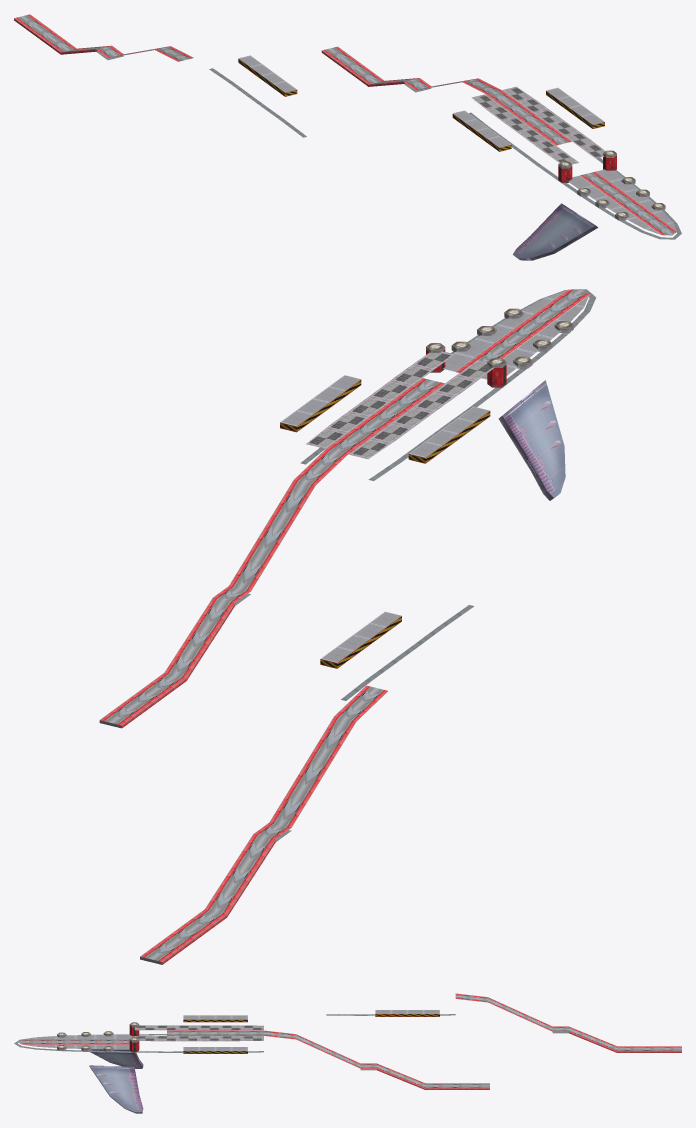
The model's file is S13_ONS_16.OBJ.
The picture shows the model from 3 angles, top to bottom: view 1: azimuth 30°, elevation 25°; view 2: azimuth 150°, elevation 25°; view 3: azimuth 270°, elevation 25°; orthographic projection. The views are drawn at different scales.
Visible parts, largest first — view 1: s13_ons_16_1, s13_ons_16_5, s13_ons_16_6, s13_ons_16_4, s13_ons_16_11, s13_ons_16_2, s13_ons_16_10, s13_ons_16_3, s13_ons_16_8, s13_ons_16_9, s13_ons_16_7; view 2: s13_ons_16_1, s13_ons_16_5, s13_ons_16_6, s13_ons_16_4, s13_ons_16_11, s13_ons_16_2, s13_ons_16_10, s13_ons_16_3; view 3: s13_ons_16_1, s13_ons_16_6, s13_ons_16_5, s13_ons_16_11, s13_ons_16_4, s13_ons_16_10, s13_ons_16_3, s13_ons_16_2, s13_ons_16_8, s13_ons_16_7.
Part boxes in pixels (x1,y1,x2,y2): s13_ons_16_1: (14, 14, 571, 145); s13_ons_16_5: (471, 86, 605, 164); s13_ons_16_6: (513, 203, 598, 260); s13_ons_16_4: (238, 55, 604, 147); s13_ons_16_11: (568, 169, 676, 234); s13_ons_16_2: (96, 51, 681, 239); s13_ons_16_10: (580, 171, 676, 235); s13_ons_16_3: (238, 58, 604, 151); s13_ons_16_8: (558, 150, 665, 216); s13_ons_16_9: (558, 155, 616, 182); s13_ons_16_7: (558, 153, 665, 220); s13_ons_16_1: (100, 378, 444, 964); s13_ons_16_5: (306, 351, 493, 459); s13_ons_16_6: (498, 380, 565, 500); s13_ons_16_4: (280, 375, 489, 662); s13_ons_16_11: (443, 290, 589, 379); s13_ons_16_2: (235, 289, 596, 841); s13_ons_16_10: (455, 289, 589, 372); s13_ons_16_3: (280, 379, 490, 668); s13_ons_16_1: (167, 993, 681, 1089); s13_ons_16_6: (89, 1049, 143, 1113); s13_ons_16_5: (134, 1025, 263, 1041); s13_ons_16_11: (23, 1034, 134, 1049); s13_ons_16_4: (183, 1010, 439, 1050); s13_ons_16_10: (18, 1039, 129, 1044); s13_ons_16_3: (183, 1014, 439, 1053); s13_ons_16_2: (14, 1014, 568, 1070); s13_ons_16_8: (57, 1022, 138, 1049); s13_ons_16_7: (57, 1024, 139, 1052).
Size of the model in its own units: 1211 by 514 by 4133.
10 materials, 10 textured.
